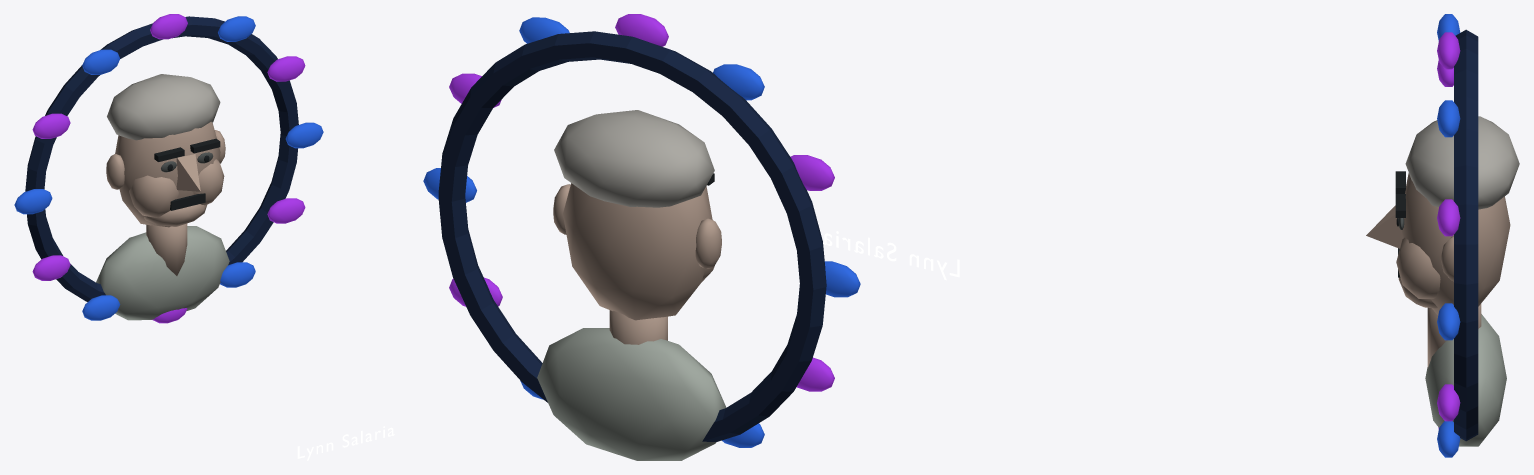
The picture shows the model from 3 angles, left to right: view 1: azimuth 30°, elevation 25°; view 2: azimuth 150°, elevation 25°; view 3: azimuth 270°, elevation 25°; orthographic projection. The views are drawn at different scales.
Visible parts, largest first — view 1: H3 / cameo ring, H3 / cameo shoulders, H3 / Lynn cameo basic hair, H3 / Lynn cameo skull, H3 / Lynn cameo cheek L, H3 / cameo neck, H3 / Lynn cameo cheek R, H3 / Lynn cameo lower jaw, H3 / Lynn cameo nose, H3 / cameo flower 0, H3 / cameo flower 1, H3 / cameo flower 4 (+11 smaller); view 2: H3 / cameo ring, H3 / cameo shoulders, H3 / Lynn cameo skull, H3 / Lynn cameo basic hair, H3 / cameo neck, H3 / cameo flower 4, H3 / cameo flower 3, H3 / cameo flower 5, H3 / Lynn cameo ear -1, H3 / cameo flower 6, H3 / cameo flower 2, H3 / cameo flower 7 (+4 smaller); view 3: H3 / cameo ring, H3 / Lynn cameo basic hair, H3 / Lynn cameo skull, H3 / cameo shoulders, H3 / Lynn cameo cheek R, H3 / Lynn cameo nose, H3 / cameo neck, H3 / cameo flower 1, H3 / cameo flower 2, H3 / cameo flower 0, H3 / cameo flower 3, H3 / cameo flower 11 (+1 smaller).
Part boxes in pixels (<box>): H3 / cameo ring: <box>25,16,298,301</box>; H3 / cameo shoulders: <box>96,226,229,320</box>; H3 / Lynn cameo basic hair: <box>107,74,220,140</box>; H3 / Lynn cameo skull: <box>115,121,220,227</box>; H3 / Lynn cameo cheek L: <box>129,175,178,217</box>; H3 / cameo neck: <box>146,223,187,275</box>; H3 / Lynn cameo cheek R: <box>193,159,224,205</box>; H3 / Lynn cameo lower jaw: <box>144,204,206,226</box>; H3 / Lynn cameo nose: <box>176,154,200,191</box>; H3 / cameo flower 0: <box>285,122,323,148</box>; H3 / cameo flower 1: <box>267,56,305,81</box>; H3 / cameo flower 4: <box>82,49,119,74</box>; H3 / cameo ring: <box>438,31,826,442</box>; H3 / cameo shoulders: <box>537,328,726,460</box>; H3 / Lynn cameo skull: <box>563,183,712,320</box>; H3 / Lynn cameo basic hair: <box>554,110,714,207</box>; H3 / cameo neck: <box>609,310,667,344</box>; H3 / cameo flower 4: <box>713,64,764,100</box>; H3 / cameo flower 3: <box>615,14,668,46</box>; H3 / cameo flower 5: <box>790,155,834,190</box>; H3 / Lynn cameo ear -1: <box>695,218,721,268</box>; H3 / cameo flower 6: <box>824,261,860,297</box>; H3 / cameo flower 2: <box>519,17,569,43</box>; H3 / cameo flower 7: <box>796,357,834,391</box>; H3 / cameo ring: <box>1454,29,1478,441</box>; H3 / Lynn cameo basic hair: <box>1405,116,1519,209</box>; H3 / Lynn cameo skull: <box>1402,173,1510,314</box>; H3 / cameo shoulders: <box>1425,314,1506,446</box>; H3 / Lynn cameo cheek R: <box>1396,237,1440,298</box>; H3 / Lynn cameo nose: <box>1366,205,1402,248</box>; H3 / cameo neck: <box>1427,304,1481,367</box>; H3 / cameo flower 1: <box>1437,199,1460,236</box>; H3 / cameo flower 2: <box>1437,100,1460,137</box>; H3 / cameo flower 0: <box>1437,303,1460,340</box>; H3 / cameo flower 3: <box>1437,32,1460,69</box>; H3 / cameo flower 11: <box>1437,384,1460,421</box>.
Bounding box in the file's own units: 3.96 × 3.81 × 4.56.
